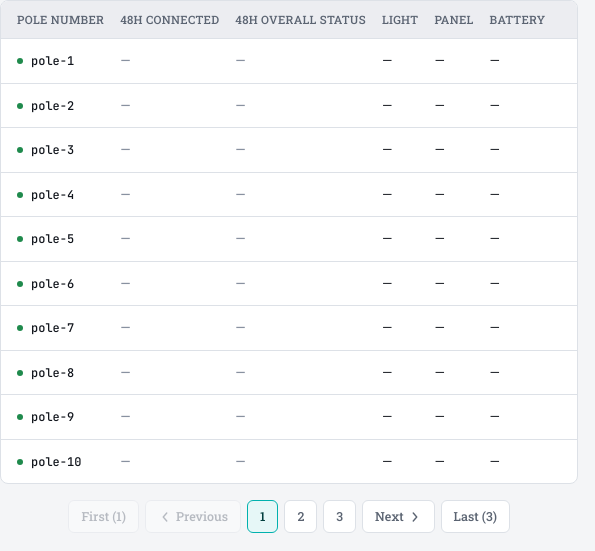
Test case: ProjectPolesTable › paginates at 10 rows per page
Expected: the link "pole-1" is shown, [17,53,74,69]
Expected: the text "pole-11" is not shown
Click the button "Next".
click(398, 517)  # box [362,500,435,533]
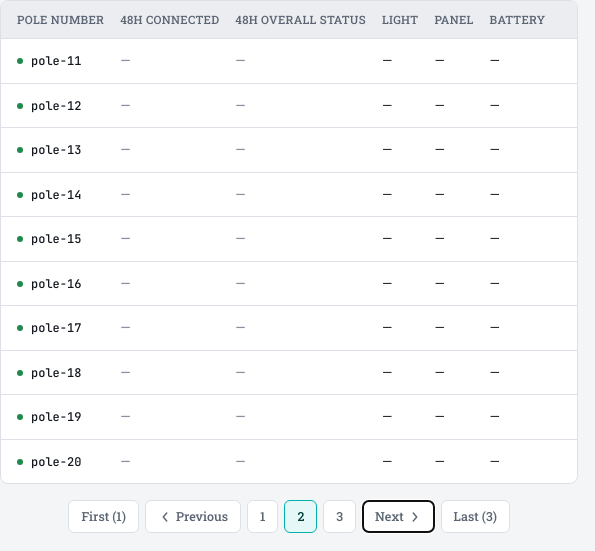
Now the link "pole-11" is shown, box [17,53,81,69]
